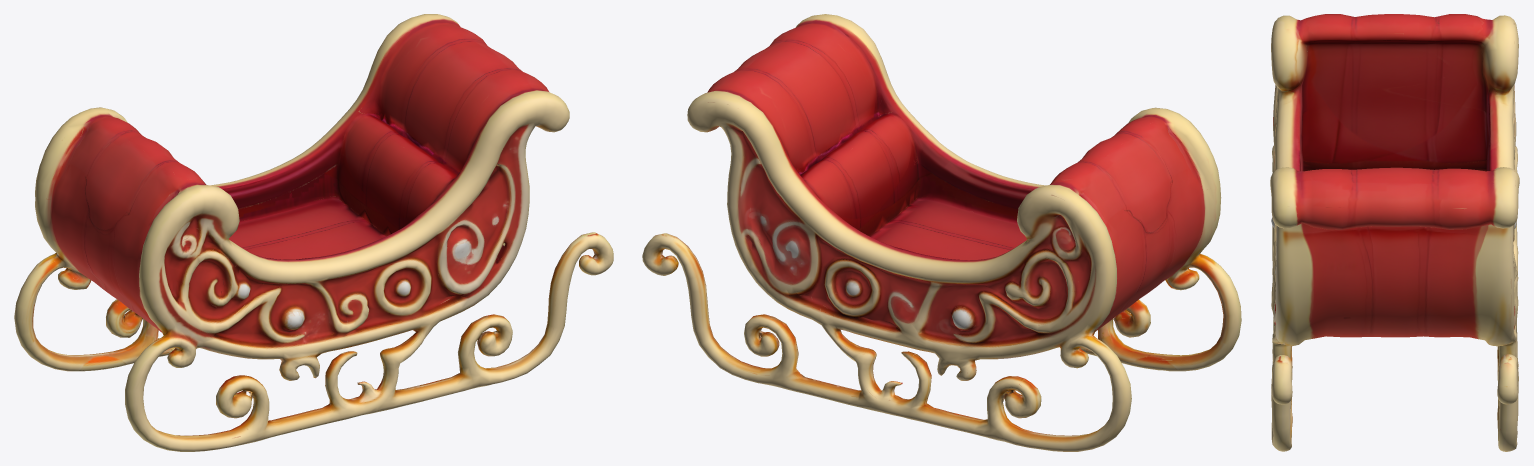
Rendered from Meshy_AI_Golden_Sleigh_0102105020_texture.fbx.
3 views of the same model, side by side, from view 1: azimuth 30°, elevation 25°; view 2: azimuth 150°, elevation 25°; view 3: azimuth 270°, elevation 25° (orthographic). The views are drawn at different scales.
Parts seen in each view (by area): view 1: Mesh0; view 2: Mesh0; view 3: Mesh0.
Boxes of the visible parts, x1,y1,x2,y2 form: Mesh0: (14, 14, 613, 451); Mesh0: (642, 14, 1241, 451); Mesh0: (1270, 14, 1519, 451).
Size of the model in its own units: 191 by 104 by 82.96.
1 material, 1 textured.
